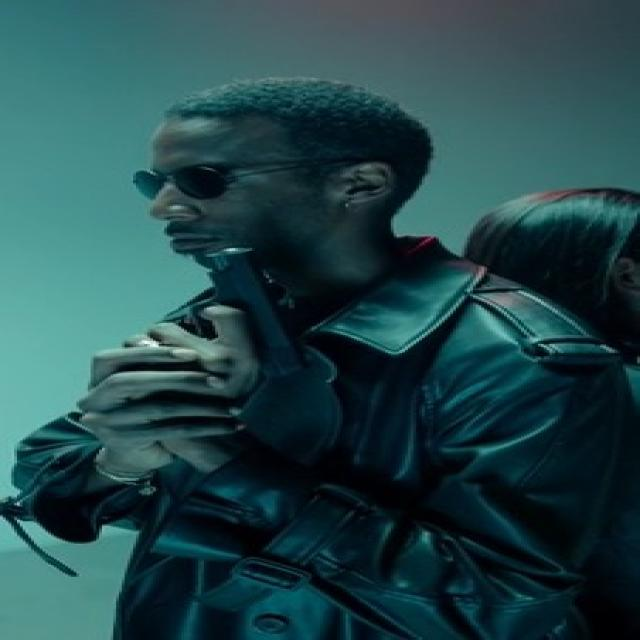Gun_Holder: (95, 242, 328, 398)
Jacket_Wearer: (17, 254, 640, 640)
Person: (3, 73, 640, 640)
